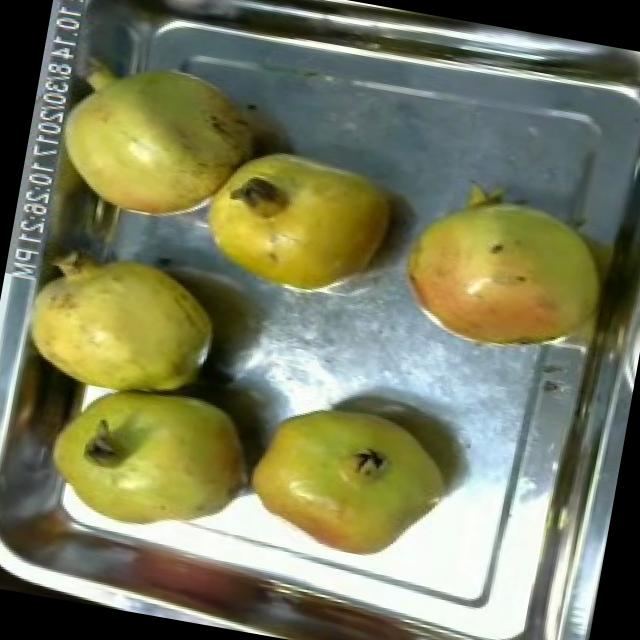fruit: (382, 158, 624, 376), (30, 42, 272, 244), (228, 384, 471, 579), (26, 364, 268, 556), (180, 125, 416, 318), (7, 233, 236, 418)
